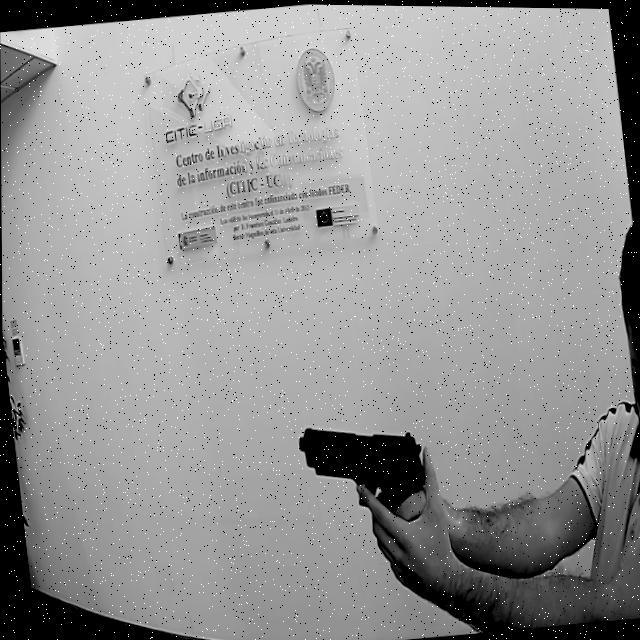pistol: (294, 413, 430, 523)
